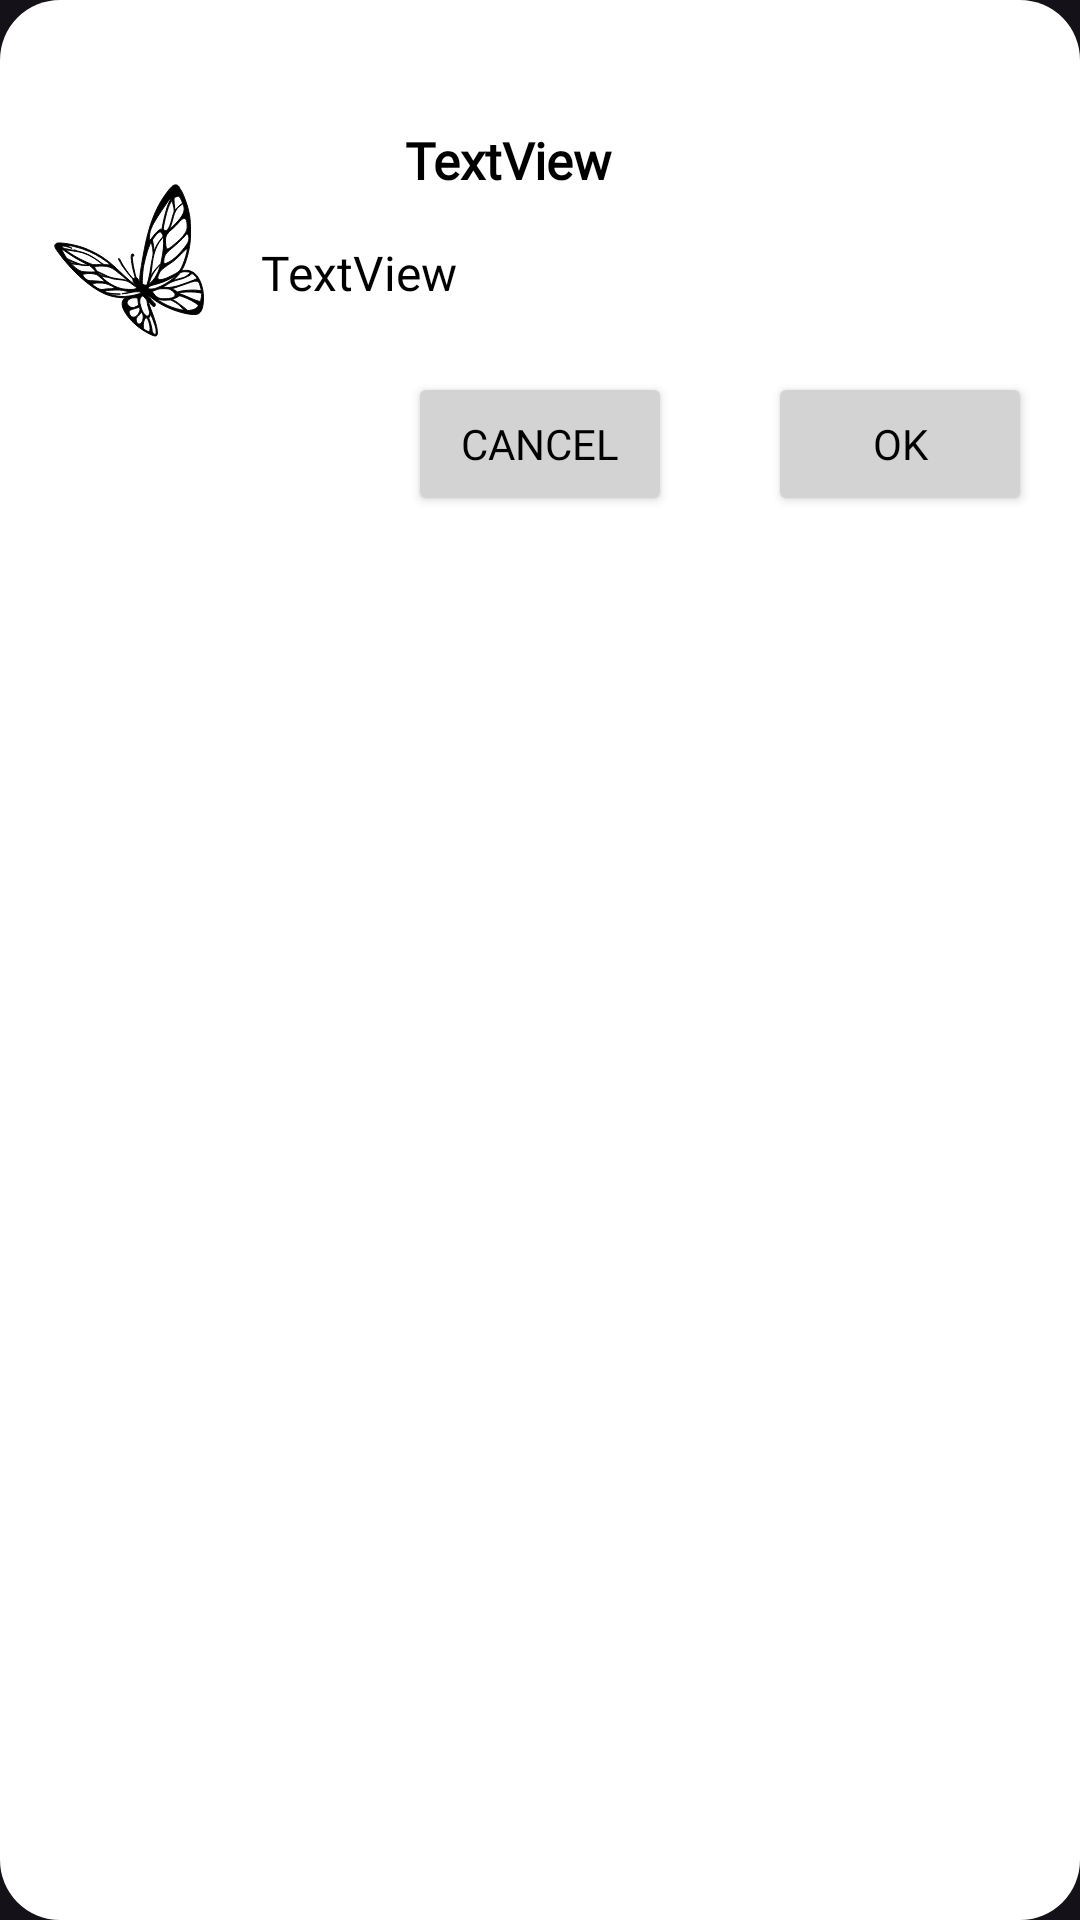

Icons on this 1080x1920 Android screen, each with the point to tap as point (x, y):
butterfly dialog picture: point (129, 260)
